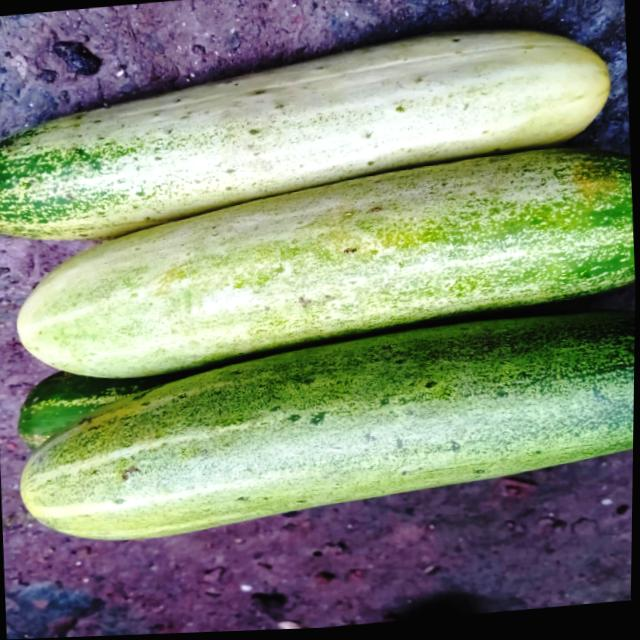Fresh-Cucumber: (5, 145, 638, 394), (13, 307, 636, 554), (0, 17, 621, 249)
